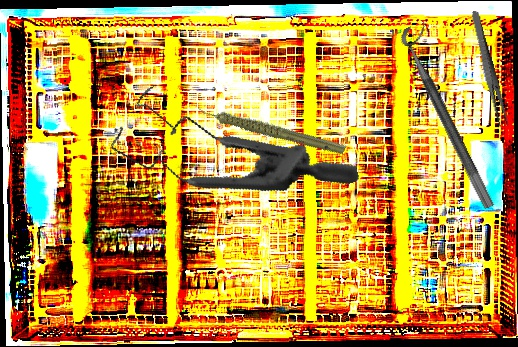Dressing Forceps: (467, 9, 510, 129)
Fixation Ring: (396, 19, 511, 211)
Handpiece: (195, 72, 348, 184)
Speculum: (96, 32, 361, 254)
